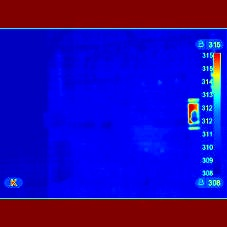Less: (175, 110, 205, 138)
